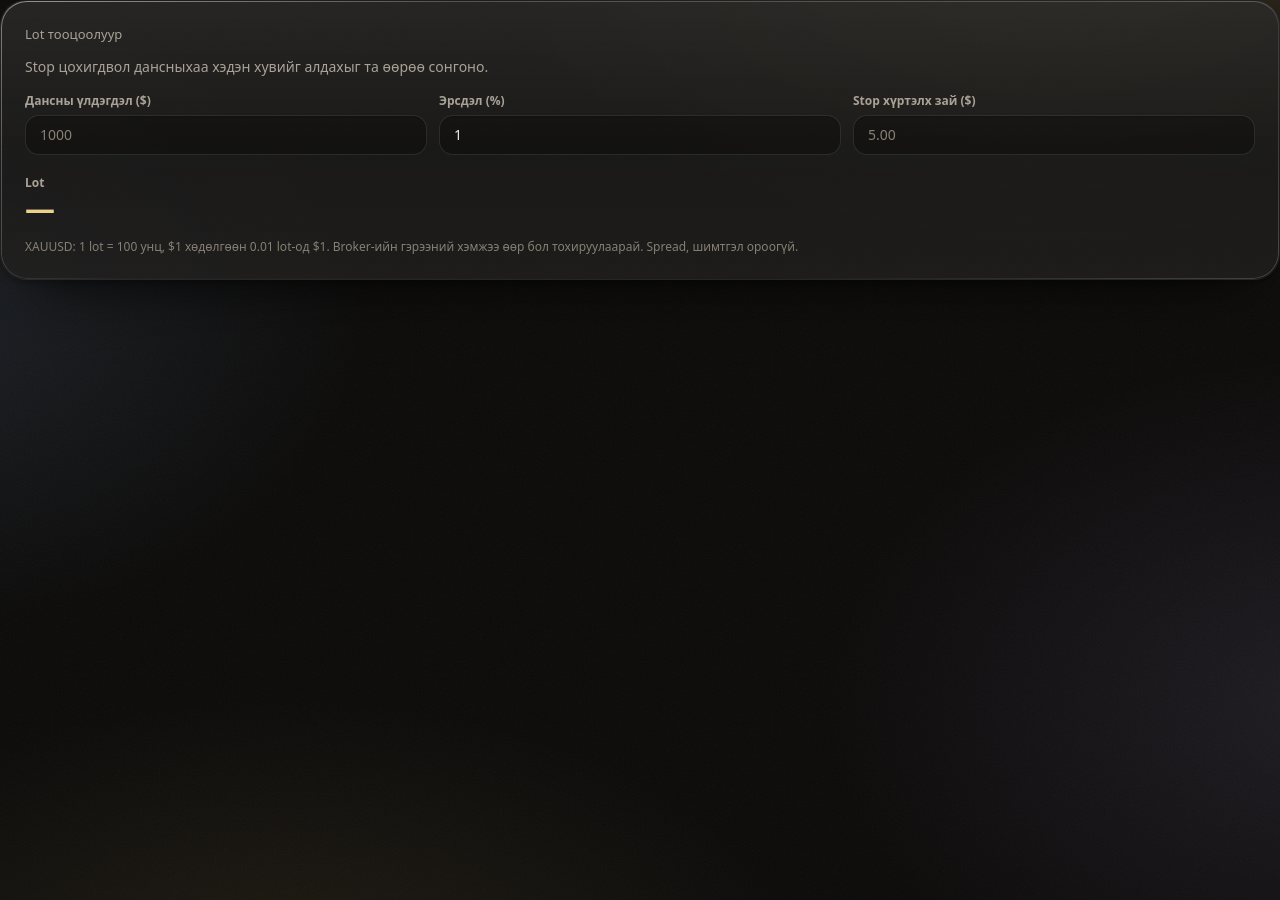
Test: without a live setup the stop distance is typed in, and the balance is remembered on this device
Later steps or results of the test are not shown.
Type "2500" into the number field labelled "Дансны үлдэгдэл ($)" at (226, 134), box [25,114,427,154]
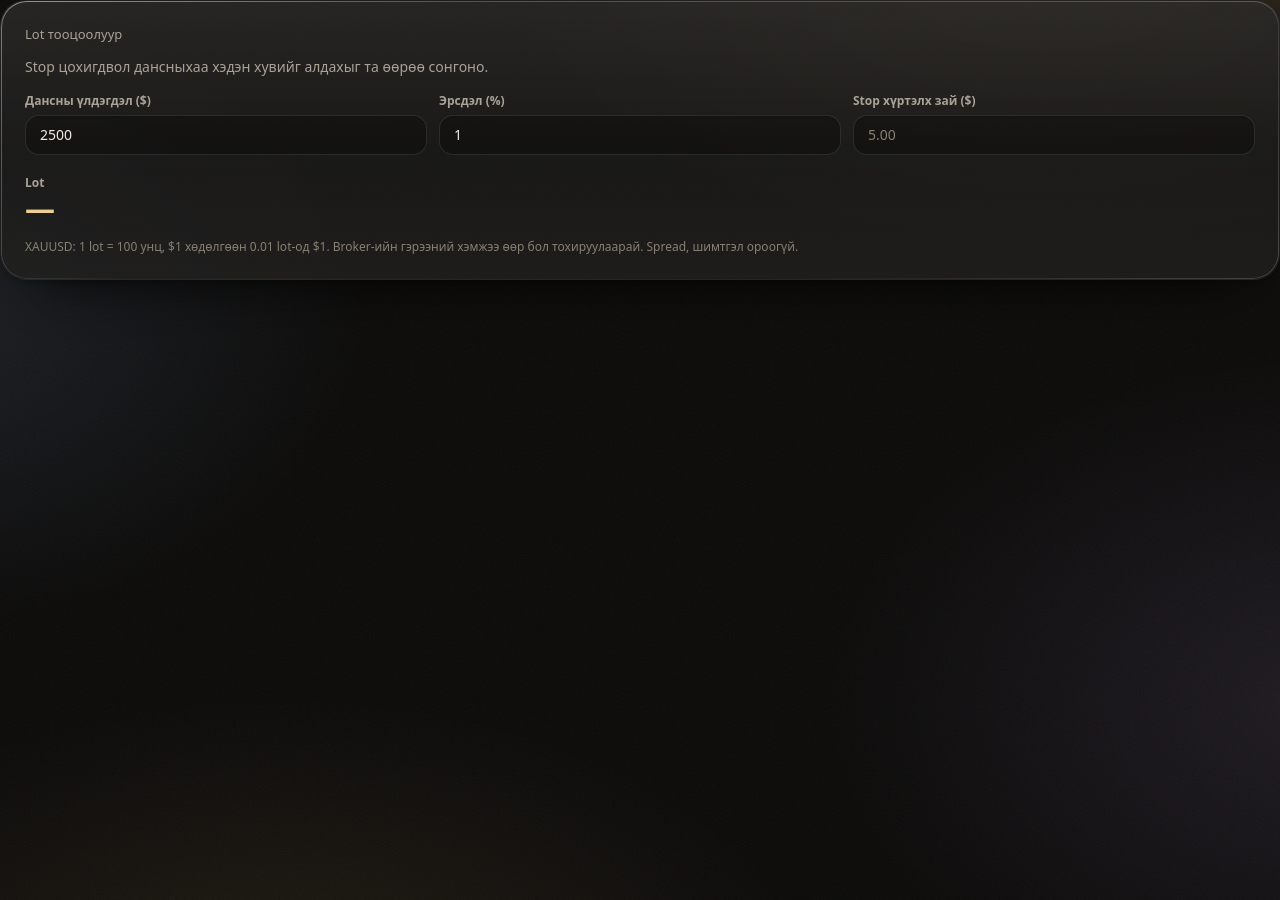
Type "10" into the number field labelled "Stop хүртэлх зай ($)" at (1054, 134), box [853,114,1255,154]
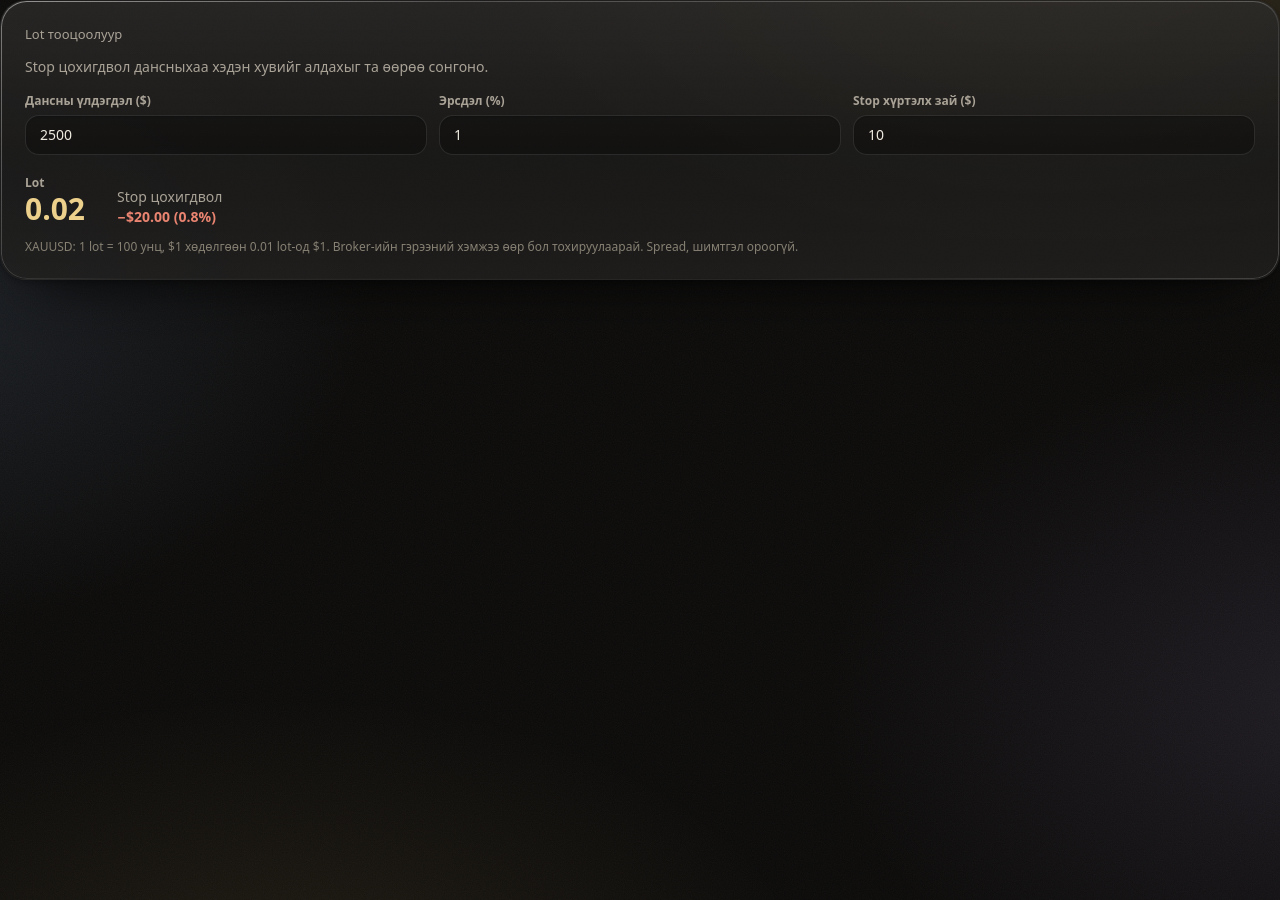
Result: the text with test id "lots" reads "0.02" at [25,188,85,228]
